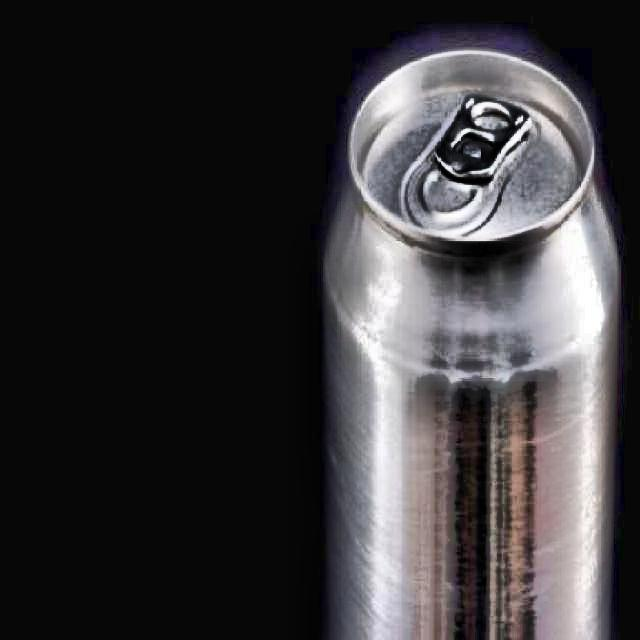can: (323, 42, 616, 640)
